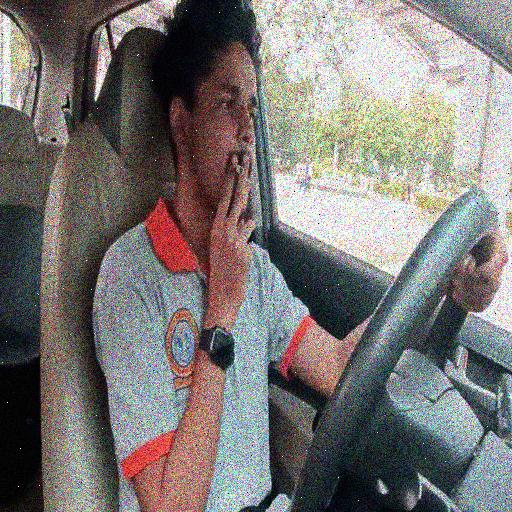Smoking: (87, 8, 511, 509)
